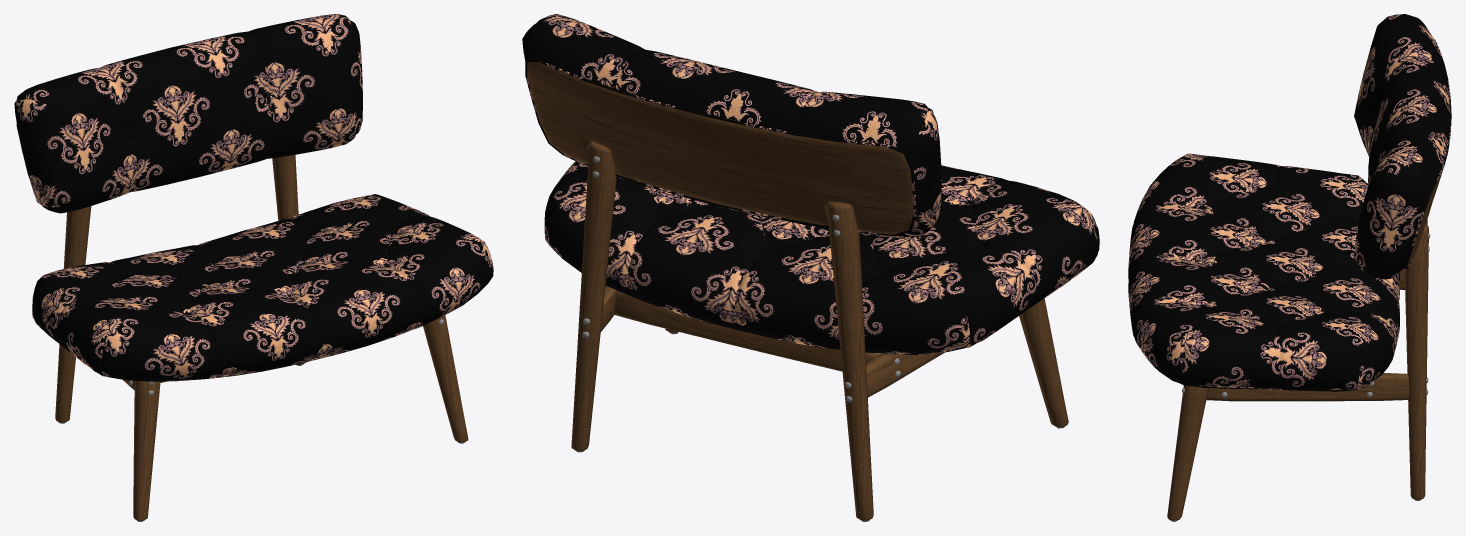
The model's file is ChairDamaskPurplegold.glb.
The picture shows the model from 3 angles, left to right: view 1: azimuth 30°, elevation 25°; view 2: azimuth 150°, elevation 25°; view 3: azimuth 270°, elevation 25°; orthographic projection. The views are drawn at different scales.
Parts seen in each view (by area): view 1: oval-tufted-chair_seat-fabric, oval-tufted-chair_back-fabric, oval-tufted-chair_legs-frame; view 2: oval-tufted-chair_seat-fabric, oval-tufted-chair_back-panel, oval-tufted-chair_legs-frame, oval-tufted-chair_back-fabric, oval-tufted-chair_back-welt; view 3: oval-tufted-chair_seat-fabric, oval-tufted-chair_back-fabric, oval-tufted-chair_legs-frame, oval-tufted-chair_back-welt, oval-tufted-chair_back-panel.
Boxes of the visible parts, x1,y1,x2,y2 form: oval-tufted-chair_seat-fabric: (32,194,493,380); oval-tufted-chair_back-fabric: (14,14,362,213); oval-tufted-chair_legs-frame: (55,154,468,520); oval-tufted-chair_seat-fabric: (544,161,1099,354); oval-tufted-chair_back-panel: (527,62,913,234); oval-tufted-chair_legs-frame: (571,142,1068,520); oval-tufted-chair_back-fabric: (522,14,941,237); oval-tufted-chair_back-welt: (525,58,916,236); oval-tufted-chair_seat-fabric: (1128,153,1399,390); oval-tufted-chair_back-fabric: (1354,14,1450,279); oval-tufted-chair_legs-frame: (1167,219,1428,520); oval-tufted-chair_back-welt: (1404,39,1451,268); oval-tufted-chair_back-panel: (1407,170,1442,266).
Bounding box in the file's own units: 0.8286 × 0.6873 × 0.5718.
4 materials, 3 textured.
